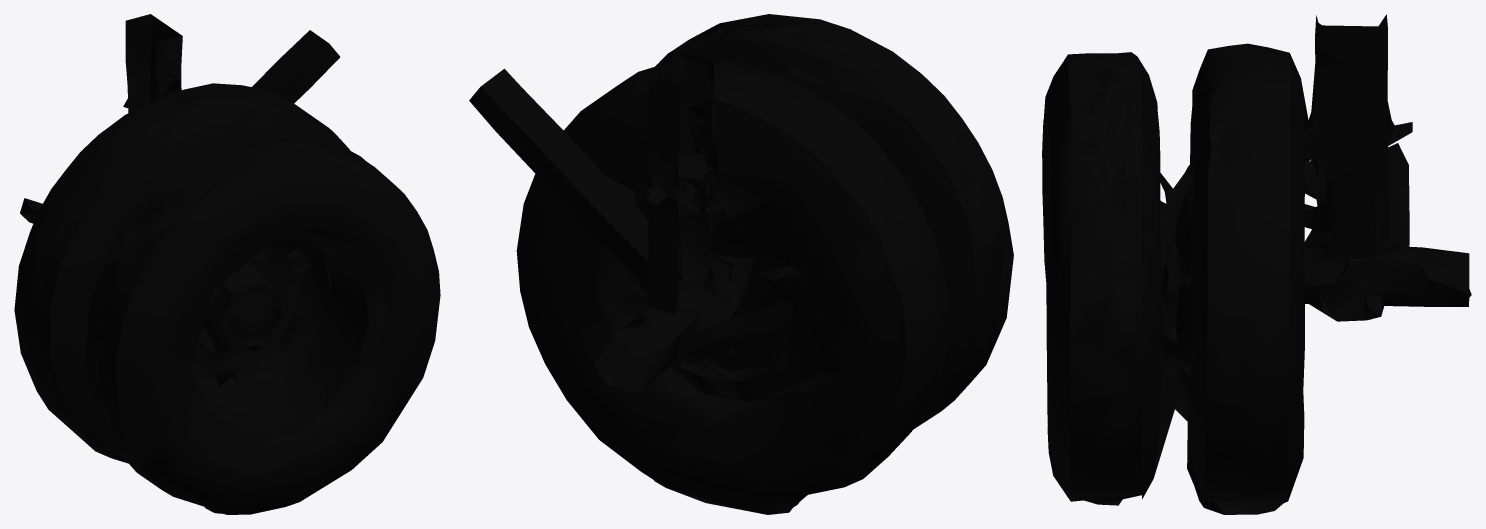
The model's file is truck_wheel.glb.
3 views of the same model, side by side, from view 1: azimuth 30°, elevation 25°; view 2: azimuth 150°, elevation 25°; view 3: azimuth 270°, elevation 25° (orthographic). The views are drawn at different scales.
Parts seen in each view (by area): view 1: truck_wheel; view 2: truck_wheel; view 3: truck_wheel.
Boxes of the visible parts, box(x1,y1,x2,y2) form: truck_wheel: box(14, 14, 440, 514); truck_wheel: box(469, 14, 1013, 514); truck_wheel: box(1042, 14, 1471, 514).
Size of what is drawn, in the model's own units: 0.9237 by 1 by 0.8465.
Materials: 1 (1 with a texture image).
